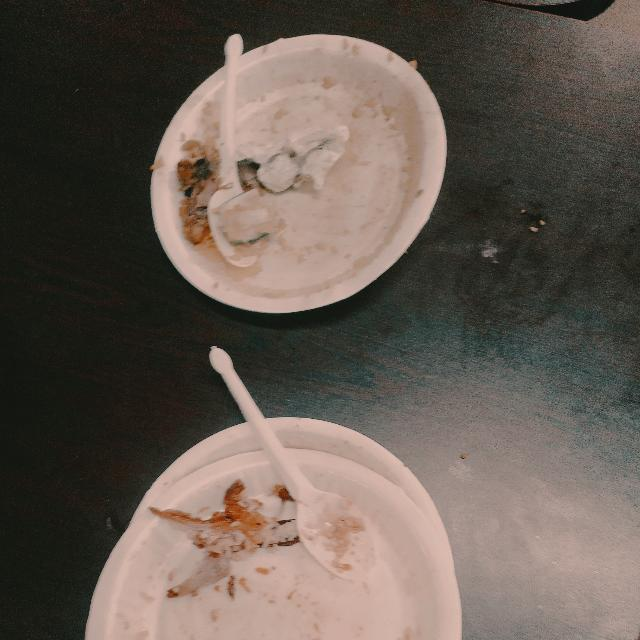kitchen paper: (258, 115, 352, 200)
